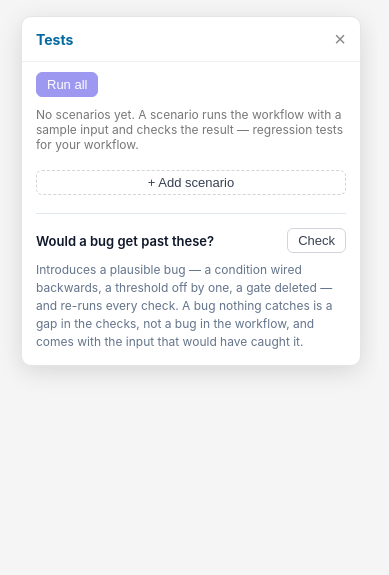
Test: TestsPanel › shows an empty state and can open the add-scenario editor
This screenshot has width=389, height=575.
Check: the text "No scenarios yet" is shown, box [36,107,343,152]
Click the button "+ Add scenario" at [191, 182], box [36,170,346,195]
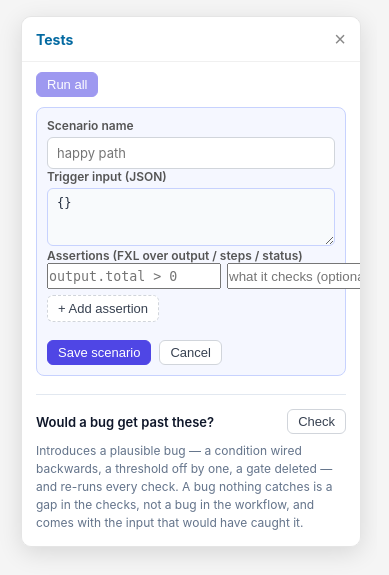
Check: the field labelled "Scenario name" is shown, box [47,137,335,169]
